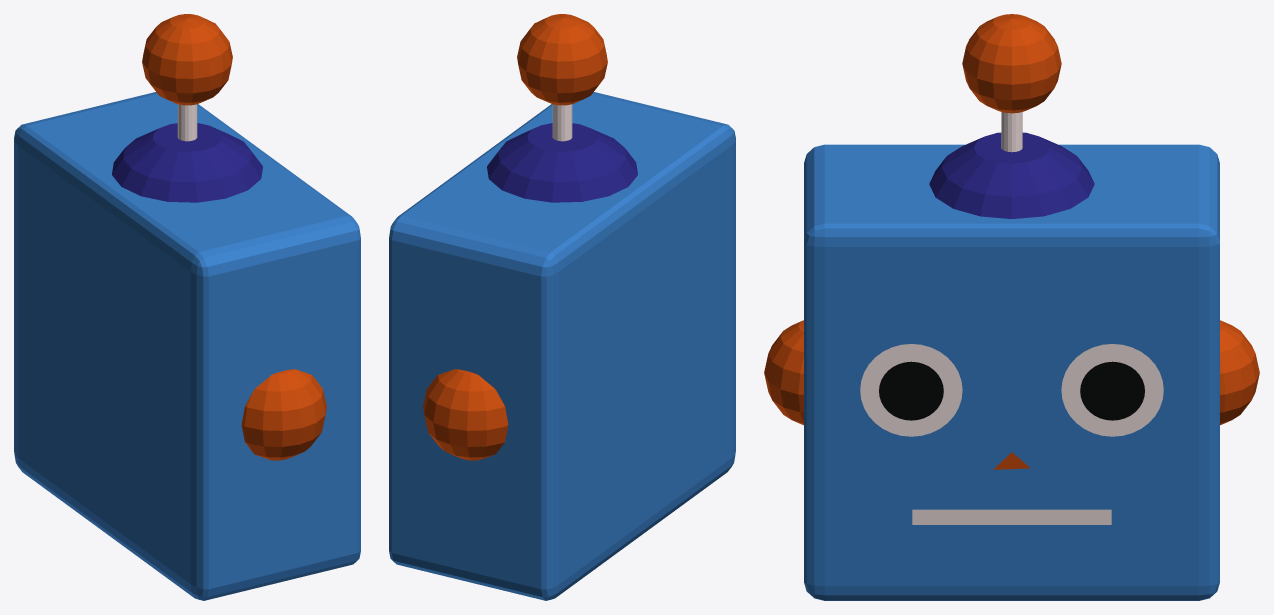
Rendered from robot_head.obj.
3 renders of one model, left to right at view 1: azimuth 30°, elevation 25°; view 2: azimuth 150°, elevation 25°; view 3: azimuth 270°, elevation 25°, orthographic. The views are drawn at different scales.
Visible parts, largest first — view 1: Cube, Sphere.001, Sphere.003, Sphere, Sphere.002; view 2: Cube, Sphere.001, Sphere.003, Sphere, Sphere.002; view 3: Cube, Sphere.001, Circle, Sphere.003, Sphere, Circle.001, Plane, Sphere.002.
Part boxes in pixels (x1,y1,x2,y2): Cube: [14, 92, 360, 600]; Sphere.001: [112, 123, 262, 202]; Sphere.003: [142, 14, 232, 105]; Sphere: [241, 369, 326, 460]; Sphere.002: [177, 104, 197, 141]; Cube: [389, 92, 735, 600]; Sphere.001: [487, 123, 637, 202]; Sphere.003: [517, 14, 607, 105]; Sphere: [423, 369, 508, 460]; Sphere.002: [552, 104, 572, 141]; Cube: [804, 144, 1219, 600]; Sphere.001: [929, 132, 1094, 218]; Circle: [860, 344, 1163, 436]; Sphere.003: [962, 14, 1061, 113]; Sphere: [764, 320, 1259, 425]; Circle.001: [879, 361, 1144, 420]; Plane: [912, 509, 1111, 524]; Sphere.002: [1001, 112, 1022, 152].
Size of the model in its own units: 1.02 by 3.06 by 2.38.
